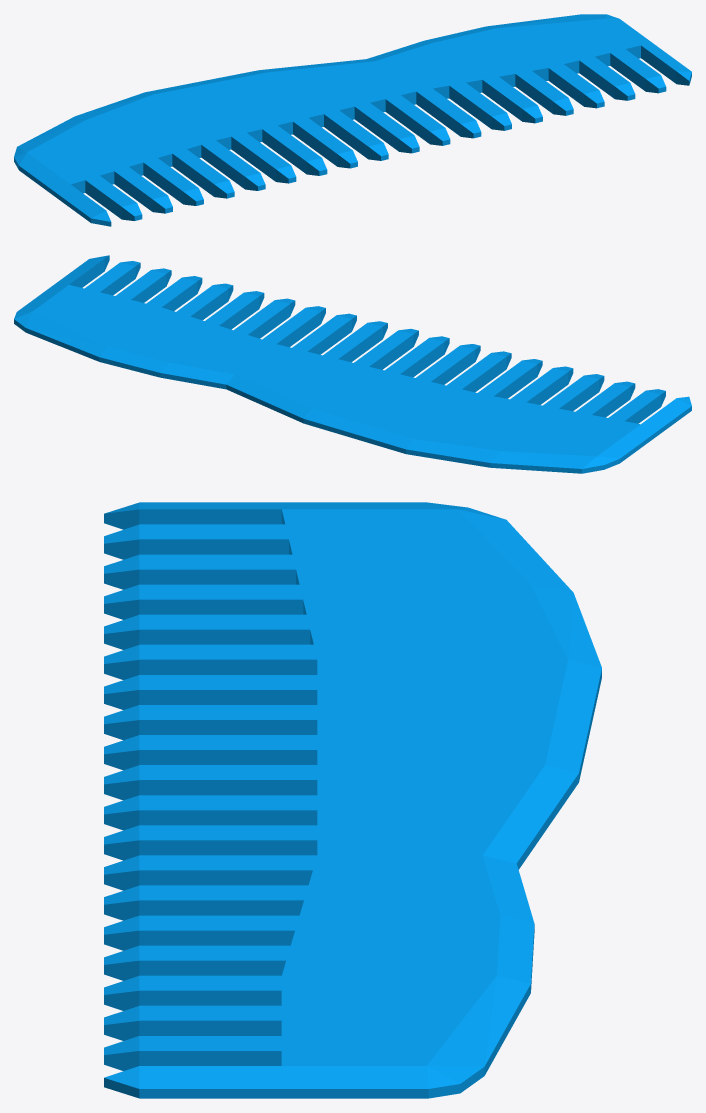
The model's file is CKComb.dae.
3 renders of one model, top to bottom at view 1: azimuth 30°, elevation 25°; view 2: azimuth 150°, elevation 25°; view 3: azimuth 270°, elevation 25°, orthographic. The views are drawn at different scales.
Visible parts, largest first — view 1: Plane_005; view 2: Plane_005; view 3: Plane_005.
Part boxes in pixels (x1=…): Plane_005: x1=14, y1=14, x2=691, y2=226; Plane_005: x1=14, y1=255, x2=691, y2=473; Plane_005: x1=104, y1=502, x2=601, y2=1098.
Size of the model in its own units: 3.9 by 1.4 by 0.0796.
Materials: 1 (1 with a texture image).
